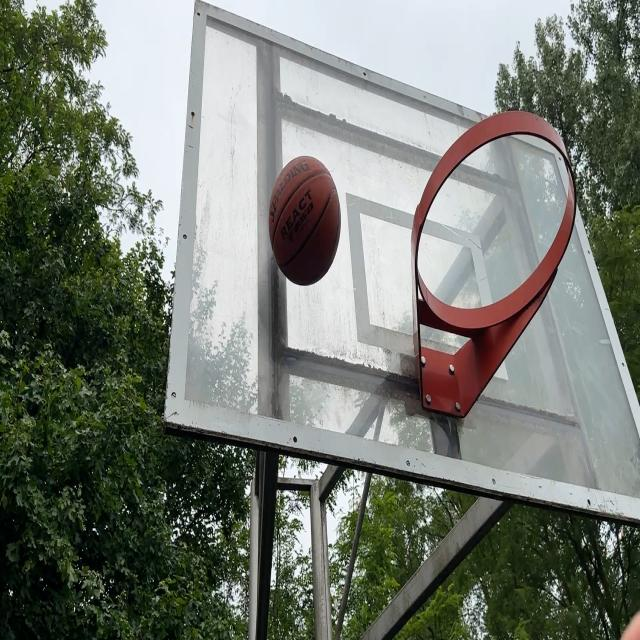rebound_hit: (270, 156, 342, 284)
